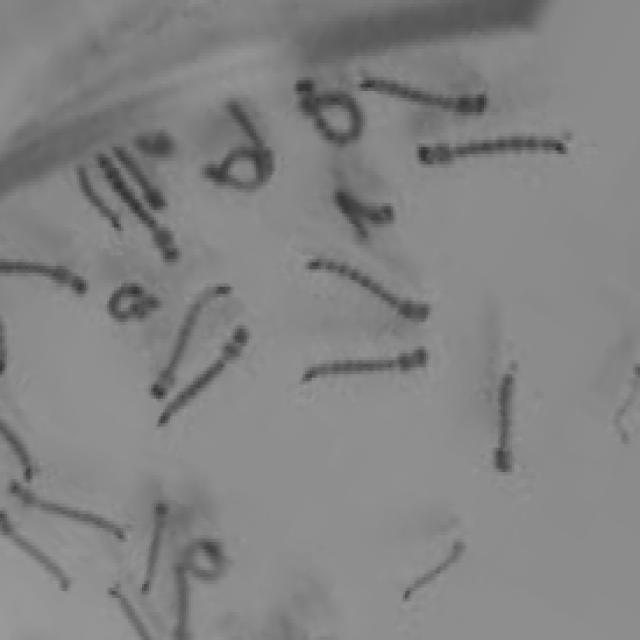larvas: (149, 264, 235, 401), (157, 315, 257, 432), (98, 156, 184, 267), (10, 477, 132, 550), (309, 258, 427, 326), (2, 505, 75, 597), (400, 530, 472, 610), (420, 135, 562, 168), (361, 78, 489, 114), (72, 164, 128, 240), (293, 82, 362, 142), (114, 145, 172, 215), (0, 252, 86, 294), (302, 352, 428, 379), (104, 574, 152, 640), (140, 500, 172, 598), (212, 146, 270, 190), (2, 417, 39, 483), (492, 374, 515, 469), (336, 196, 394, 233), (616, 360, 640, 442), (181, 538, 226, 581), (110, 280, 156, 318), (168, 566, 192, 633), (232, 102, 265, 144), (136, 134, 174, 152), (0, 317, 8, 377)
